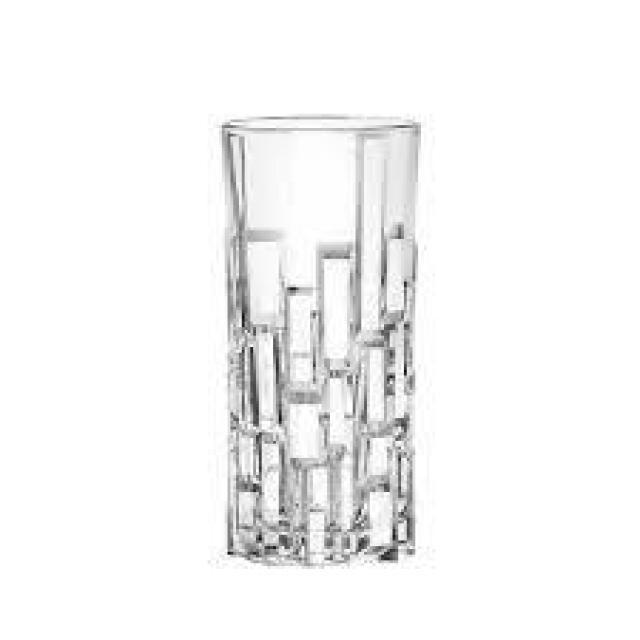glass: (219, 115, 427, 568)
